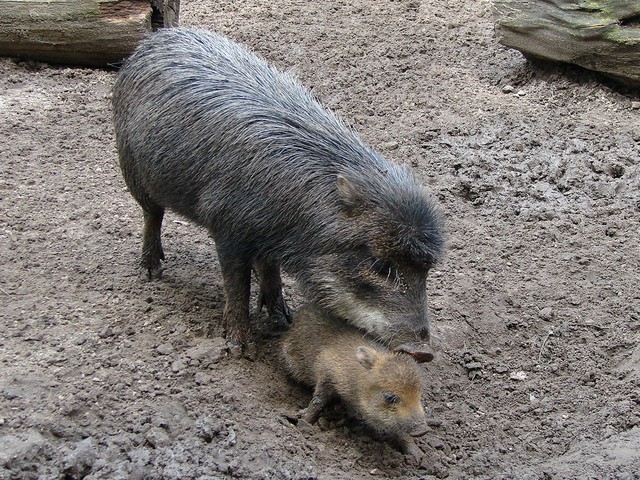Pig: (111, 21, 454, 442)
